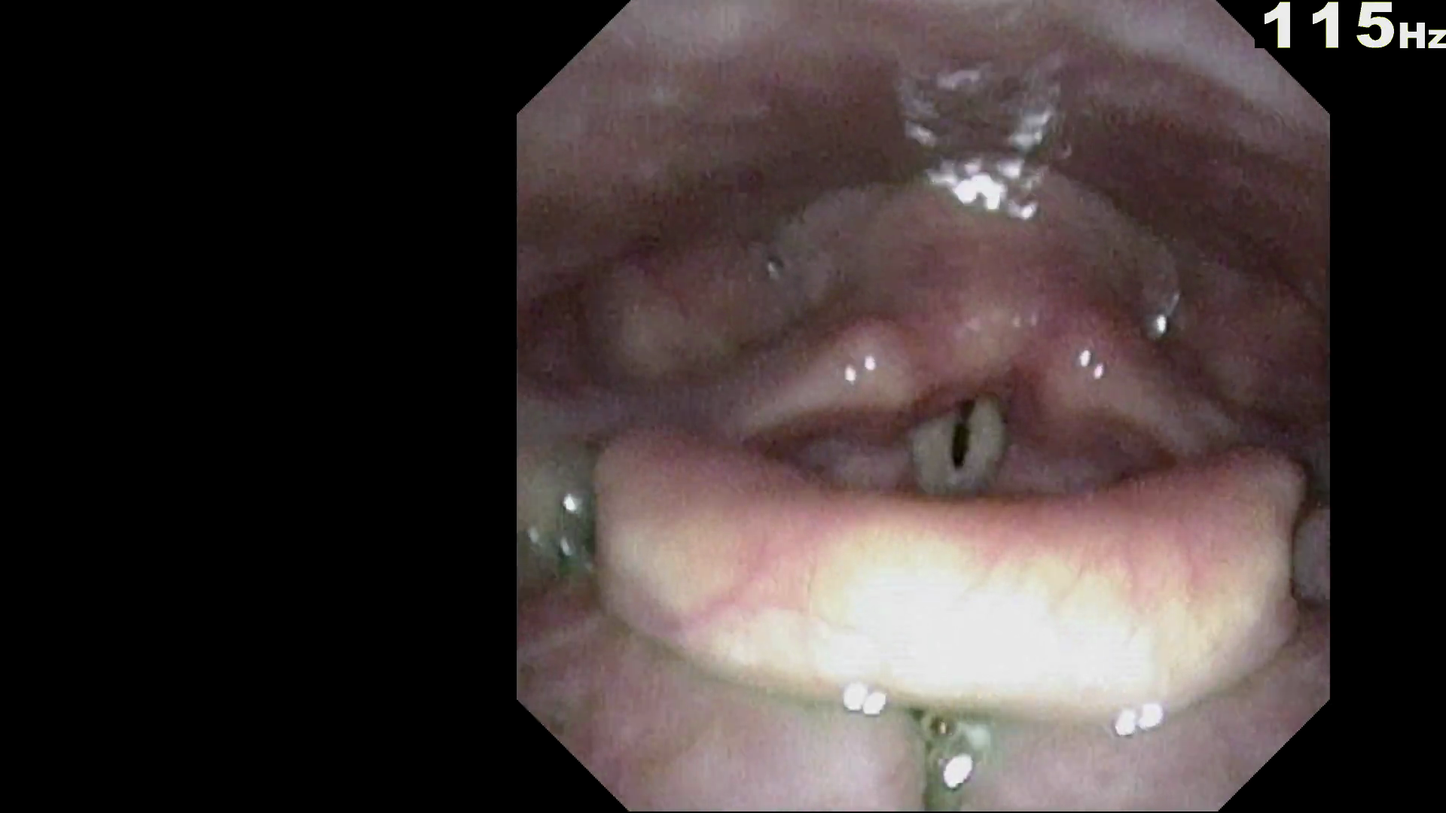epiglottis: (675, 372, 1315, 603)
trachea: (929, 350, 1056, 491)
